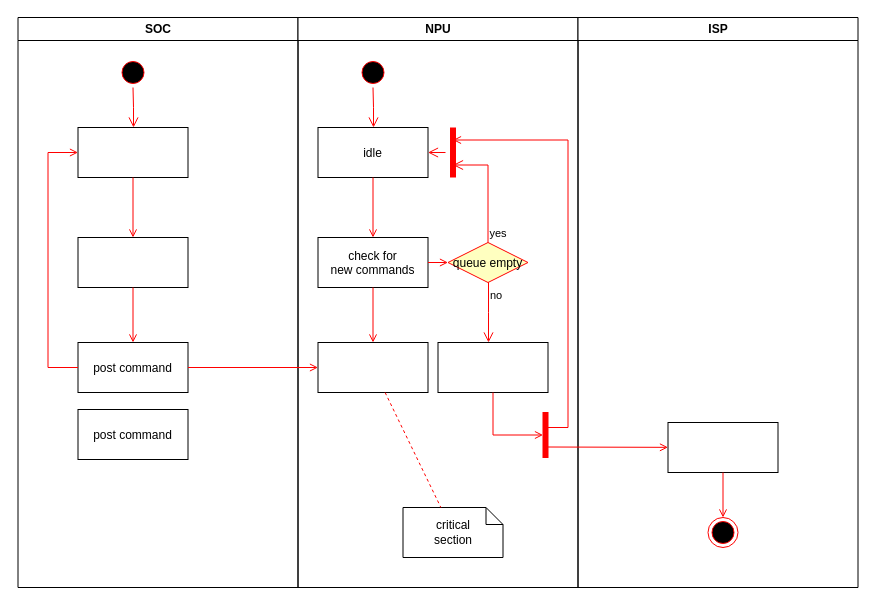
The diagram is 875 pixels wide and 605 high, and some of its shapes have lost their labels. Each missing label, with the box of its shape:
Boot: (77, 126, 188, 178)
command queue: (317, 342, 428, 392)
dispatch command worker thread: (437, 342, 548, 392)
process command: (667, 422, 778, 472)
user action: (77, 236, 188, 288)
